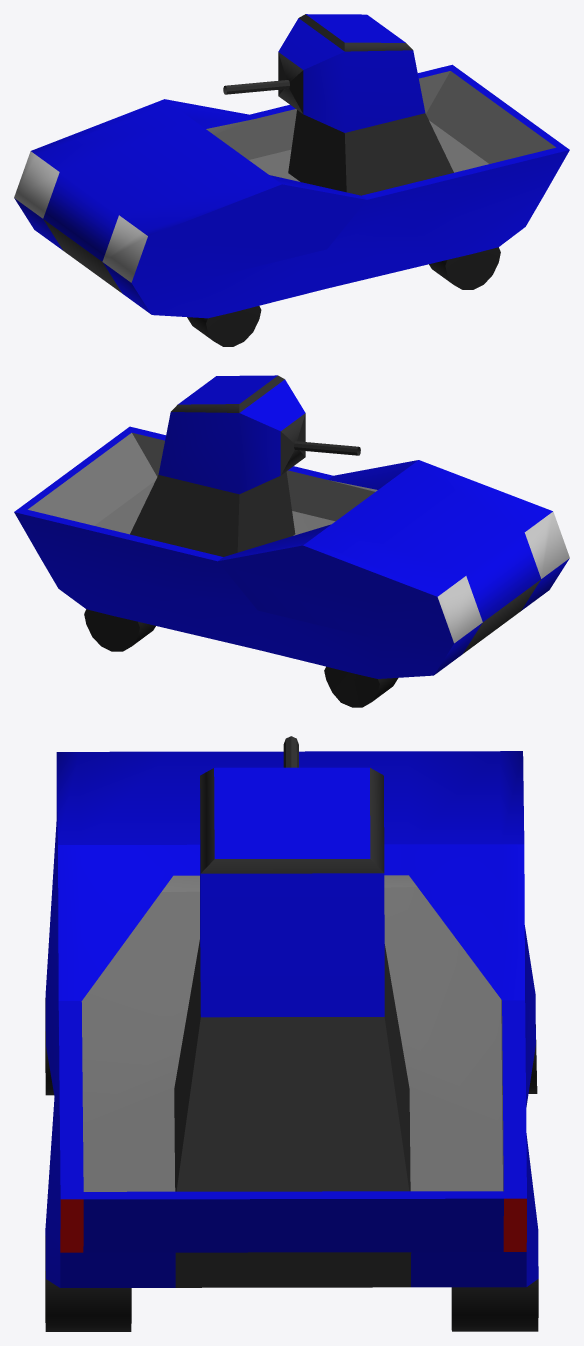
The model's file is WarLightBlue.fbx.
3 renders of one model, top to bottom at view 1: azimuth 30°, elevation 25°; view 2: azimuth 150°, elevation 25°; view 3: azimuth 270°, elevation 25°, orthographic. The views are drawn at different scales.
Visible parts, largest first — view 1: pCylinder6; view 2: pCylinder6; view 3: pCylinder6.
Part boxes in pixels (x1,y1,x2,y2): pCylinder6: (14, 14, 569, 346); pCylinder6: (14, 375, 569, 707); pCylinder6: (45, 736, 538, 1331).
Size of the model in its own units: 4.32 by 2.23 by 2.1.
